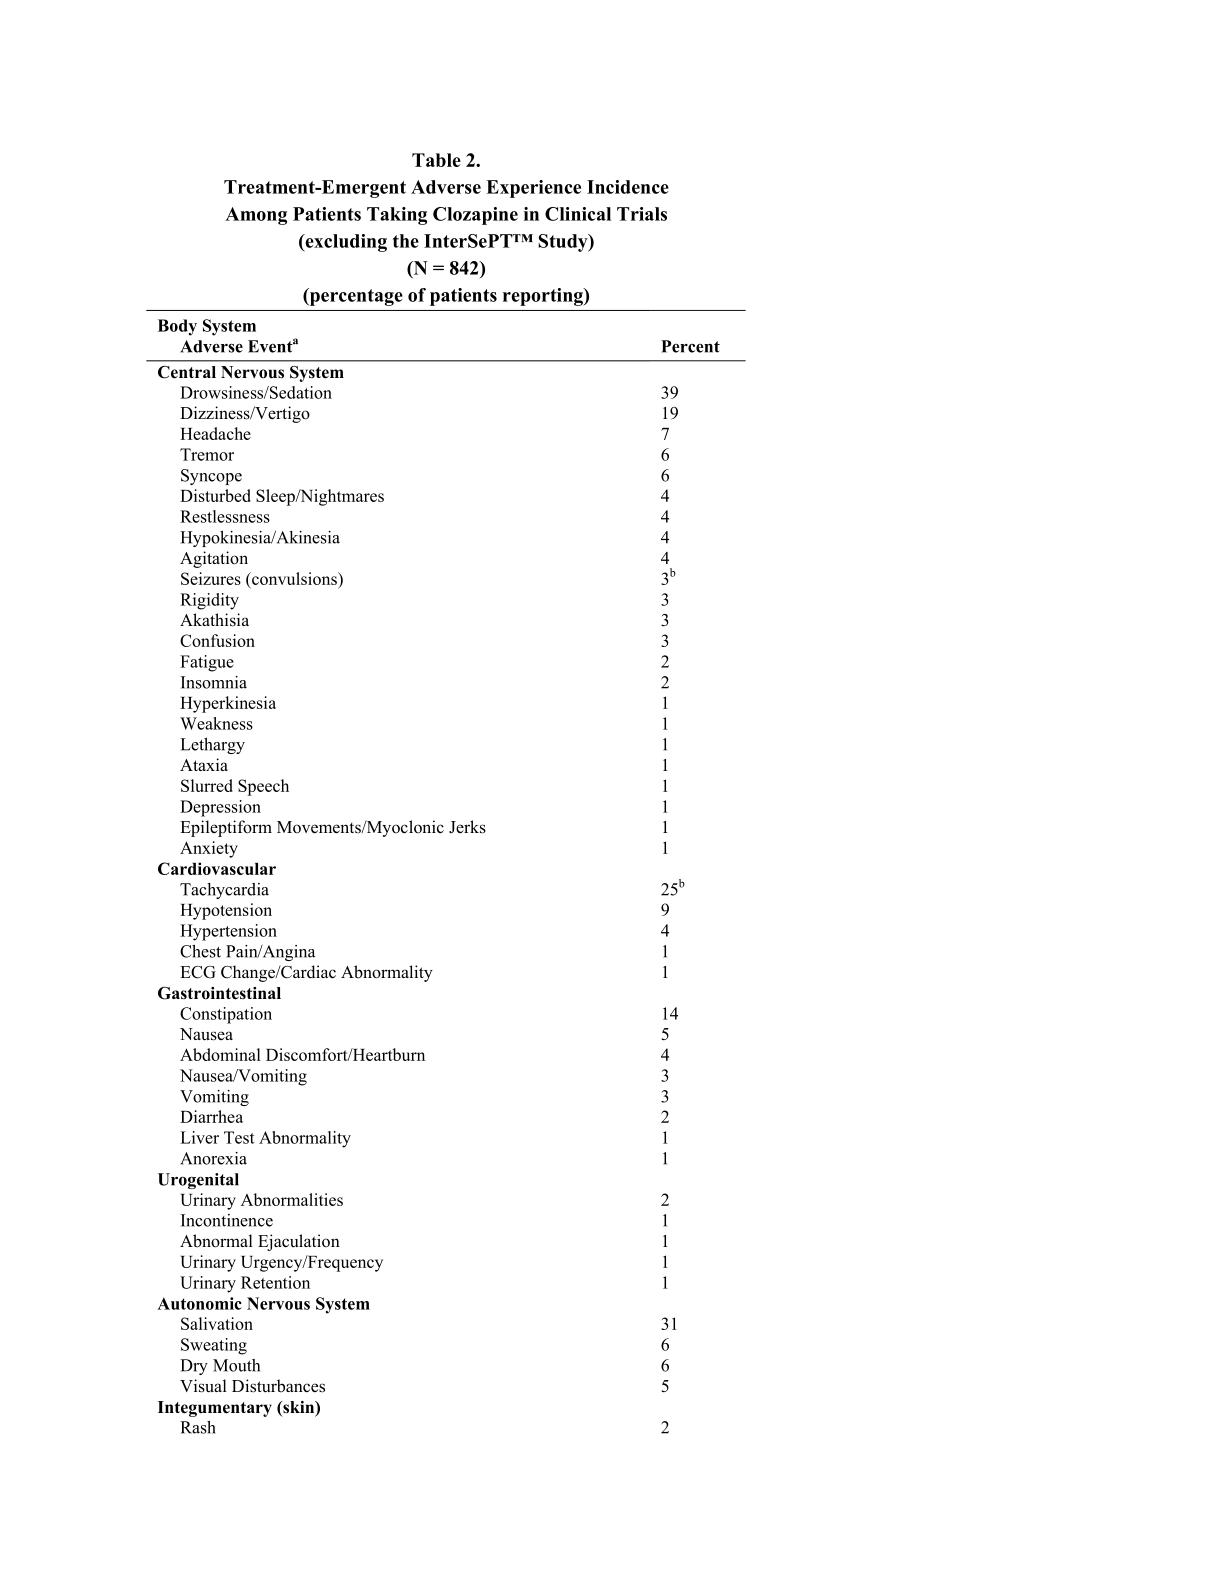partial_lined: (144, 306, 747, 1439)
